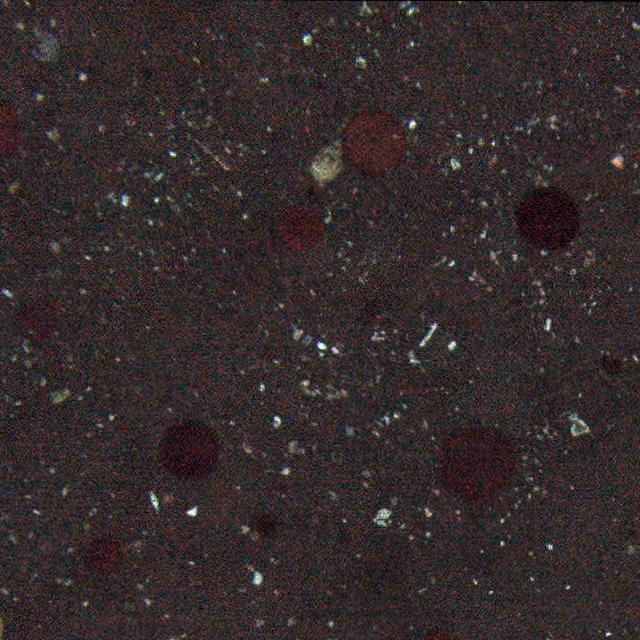whelk: (310, 134, 346, 190)
